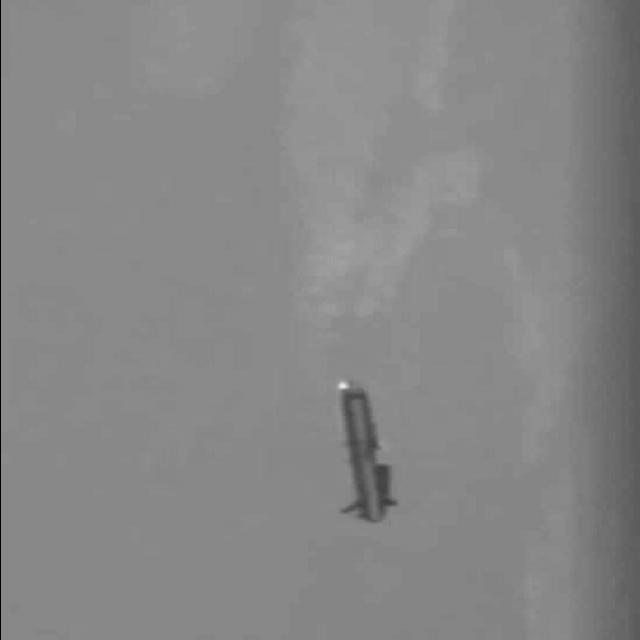missile: (329, 377, 399, 528)
